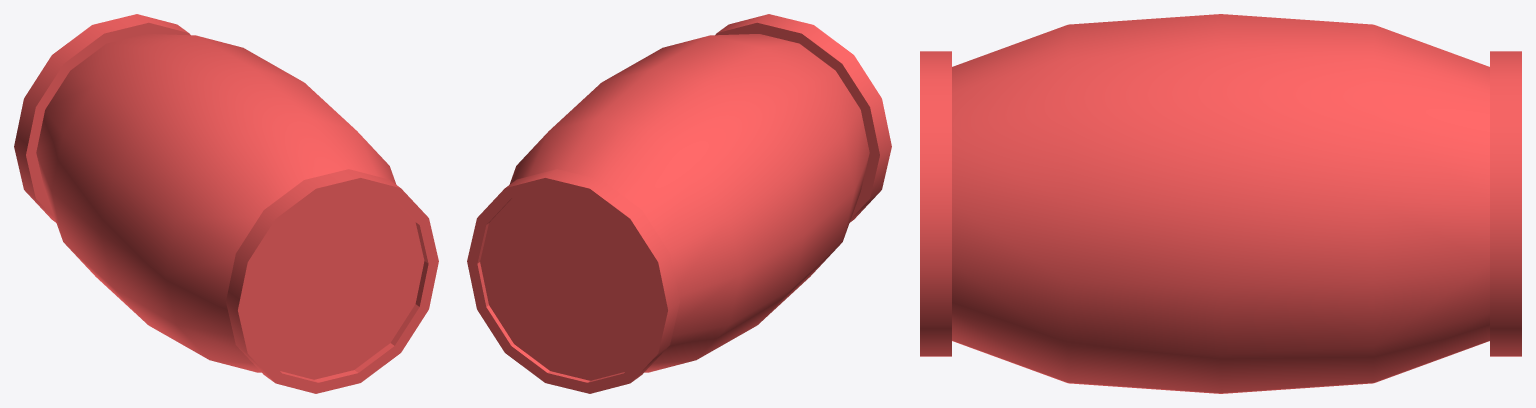
Rendered from SimpleBarrel.fbx.
3 renders of one model, left to right at view 1: azimuth 30°, elevation 25°; view 2: azimuth 150°, elevation 25°; view 3: azimuth 270°, elevation 25°, orthographic. The views are drawn at different scales.
Visible parts, largest first — view 1: Cylinder001.001, Object007.001; view 2: Cylinder001.001, Object007.001; view 3: Cylinder001.001, Object007.001.
Boxes of the visible parts, x1,y1,x2,y2 form: Cylinder001.001: (36,34,396,372); Object007.001: (14,14,438,393); Cylinder001.001: (509,34,869,372); Object007.001: (467,14,891,393); Cylinder001.001: (952,14,1489,393); Object007.001: (920,51,1521,356).
Bounding box in the file's own units: 1.83 × 1.79 × 2.84.
